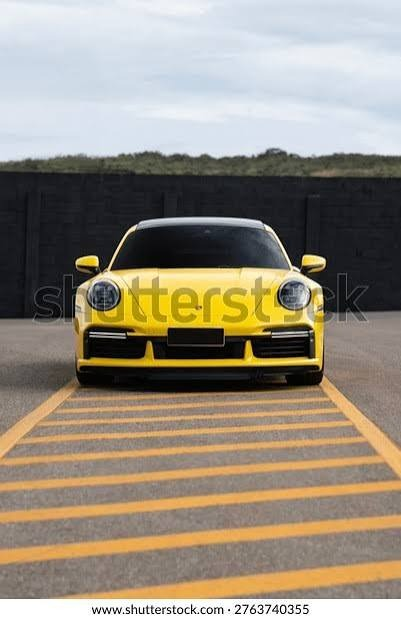car: (70, 205, 331, 385)
